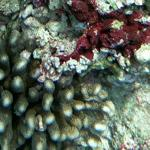alive: (2, 3, 148, 148)
